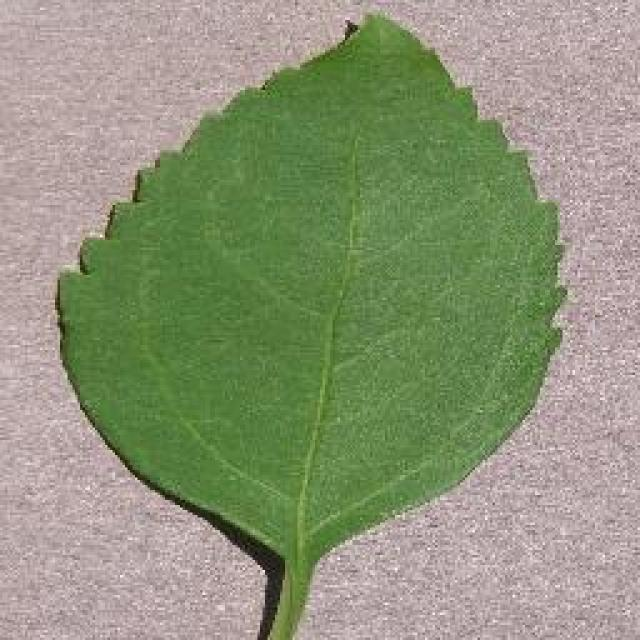Cherry___healthy: (45, 8, 585, 638)
